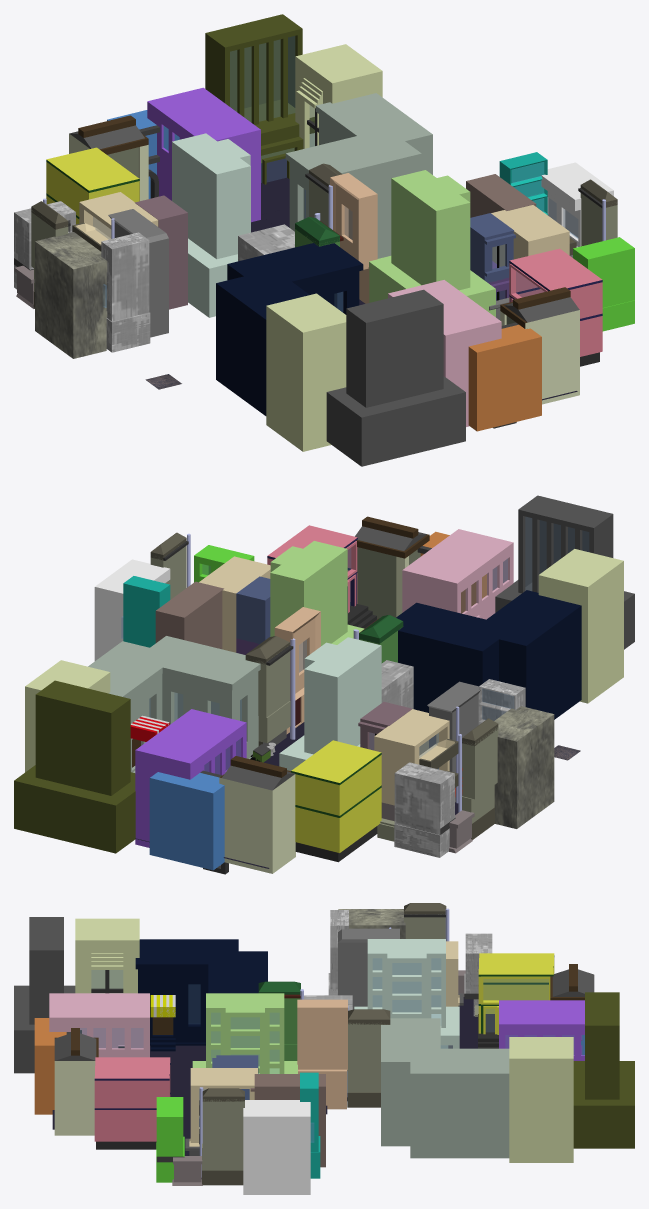
Rendered from mapaNovo.glb.
The picture shows the model from 3 angles, top to bottom: view 1: azimuth 30°, elevation 25°; view 2: azimuth 150°, elevation 25°; view 3: azimuth 270°, elevation 25°; orthographic projection. The views are drawn at different scales.
Visible parts, largest first — view 1: predio.029, predio.018, predio.017, predio.006, predio.022, predio.028, predio.013, predio.001, predio.026, predio.008, predio.021, predio.007 (+25 smaller); view 2: predio.006, predio.018, predio.017, predio.012, predio.013, predio.028, predio.014, predio.027, predio.029, predio.009, predio.008, predio.001 (+25 smaller); view 3: predio.017, predio.018, predio.007, predio.006, predio.013, predio.034, predio.023, predio.022, predio.027, predio.029, predio.028, predio.012 (+22 smaller).
Part boxes in pixels (x1,y1,x2,y2): predio.029: (326,289,465,466); predio.018: (216,243,363,415); predio.017: (285,93,432,258); predio.006: (205,14,314,184); predio.022: (369,170,495,317); predio.028: (266,293,346,451); predio.013: (172,133,250,317); predio.001: (35,232,107,358); predio.026: (468,322,541,431); predio.008: (147,87,260,222); predio.021: (500,287,579,404); predio.007: (295,44,382,148); predio.006: (14,680,135,853); predio.018: (396,590,581,719); predio.017: (88,636,260,772); predio.012: (291,740,381,862); predio.013: (279,637,381,770); predio.028: (538,549,623,703); predio.014: (219,756,295,873); predio.027: (402,529,513,619); predio.029: (495,495,634,649); predio.009: (149,770,228,874); predio.008: (135,709,246,847); predio.001: (494,706,554,828); predio.017: (381,1018,509,1158); predio.018: (135,939,267,1051); predio.007: (509,1037,573,1162); predio.006: (573,992,634,1148); predio.013: (354,939,459,1048); predio.034: (243,1100,313,1194); predio.023: (94,1057,170,1149); predio.022: (192,993,297,1073); predio.027: (49,993,149,1057); predio.029: (14,917,81,1073); predio.028: (75,918,139,993); predio.012: (478,953,554,1048).
Bounding box in the file's own units: 666 × 207 × 842.
Materials: 240 (13 with a texture image).
